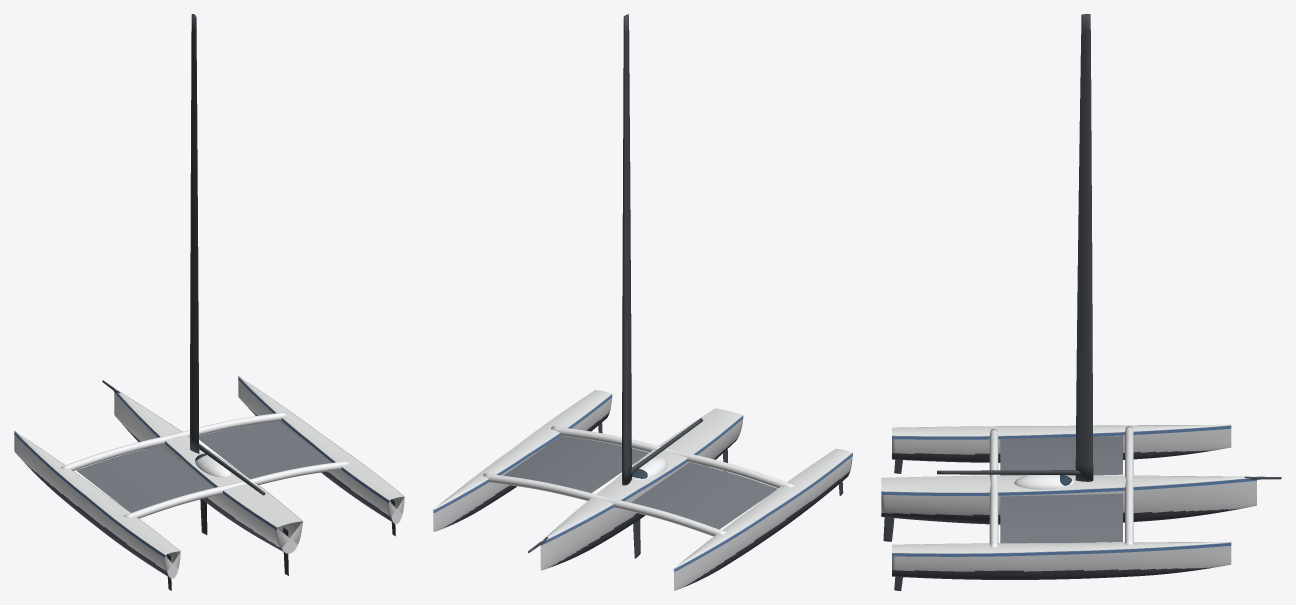
File: fleury_michon_ix.glb
3 views of the same model, side by side, from view 1: azimuth 30°, elevation 25°; view 2: azimuth 150°, elevation 25°; view 3: azimuth 270°, elevation 25° (orthographic). The views are drawn at different scales.
Parts seen in each view (by area): view 1: filet, filet.001, pivot_mat, centrale_pont, centrale_coque, flotteur_coque, flotteur_pont, flotteur_pont.001, flotteur_coque.001, bras, bras.001, flotteur_fond (+2 smaller); view 2: filet, filet.001, pivot_mat, centrale_pont, centrale_coque, flotteur_coque, flotteur_pont, flotteur_pont.001, bras, flotteur_coque.001, bras.001, flotteur_fond (+4 smaller); view 3: pivot_mat, flotteur_coque.001, centrale_coque, filet.001, flotteur_coque, centrale_pont, filet, flotteur_pont.001, flotteur_fond.001, flotteur_pont, centrale_fond, centrale_bande (+7 smaller).
Boxes of the visible parts, left/top/right/bottom form: filet: left=76, top=446, right=212, bottom=512; filet.001: left=199, top=421, right=331, bottom=478; pivot_mat: left=190, top=14, right=199, bottom=453; centrale_pont: left=114, top=388, right=302, bottom=527; centrale_coque: left=114, top=393, right=302, bottom=553; flotteur_coque: left=14, top=431, right=180, bottom=578; flotteur_pont: left=14, top=430, right=179, bottom=554; flotteur_pont.001: left=238, top=376, right=403, bottom=500; flotteur_coque.001: left=238, top=377, right=404, bottom=523; bras: left=60, top=412, right=287, bottom=470; bras.001: left=124, top=461, right=350, bottom=518; flotteur_fond: left=25, top=463, right=169, bottom=577; filet: left=631, top=462, right=777, bottom=529; filet.001: left=504, top=436, right=648, bottom=493; pivot_mat: left=622, top=14, right=631, bottom=485; centrale_pont: left=541, top=408, right=742, bottom=541; centrale_coque: left=540, top=409, right=742, bottom=570; flotteur_coque: left=674, top=449, right=852, bottom=590; flotteur_pont: left=674, top=448, right=852, bottom=568; flotteur_pont.001: left=433, top=390, right=611, bottom=509; bras: left=483, top=473, right=726, bottom=536; flotteur_coque.001: left=433, top=390, right=611, bottom=531; bras.001: left=551, top=426, right=794, bottom=488; flotteur_fond: left=684, top=471, right=850, bottom=586; pivot_mat: left=1075, top=14, right=1093, bottom=481; flotteur_coque.001: left=892, top=542, right=1231, bottom=571; centrale_coque: left=881, top=475, right=1256, bottom=515; filet.001: left=1000, top=494, right=1122, bottom=543; flotteur_coque: left=892, top=425, right=1231, bottom=454; centrale_pont: left=881, top=475, right=1256, bottom=492; filet: left=1000, top=436, right=1122, bottom=475; flotteur_pont.001: left=892, top=541, right=1230, bottom=553; flotteur_fond.001: left=892, top=567, right=1211, bottom=579; flotteur_pont: left=892, top=424, right=1231, bottom=436; centrale_fond: left=881, top=508, right=1239, bottom=524; centrale_bande: left=881, top=478, right=1256, bottom=495.
Size of the model in its own units: 25.61 by 51.43 by 34.1.
